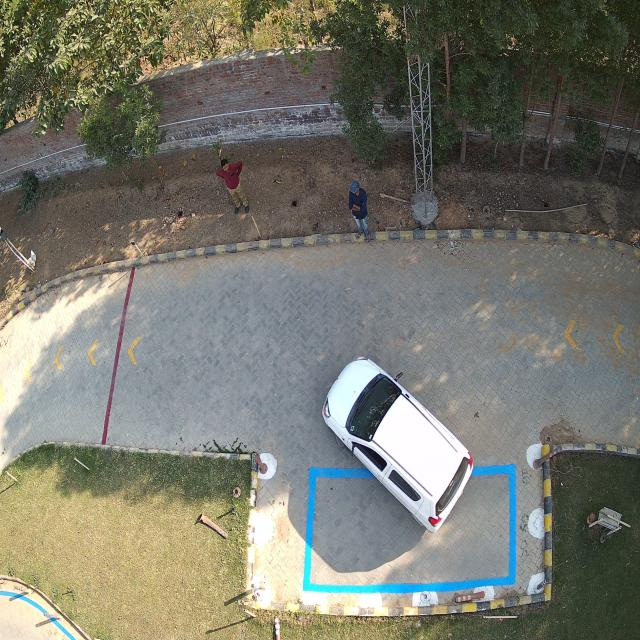car: (321, 355, 474, 530)
